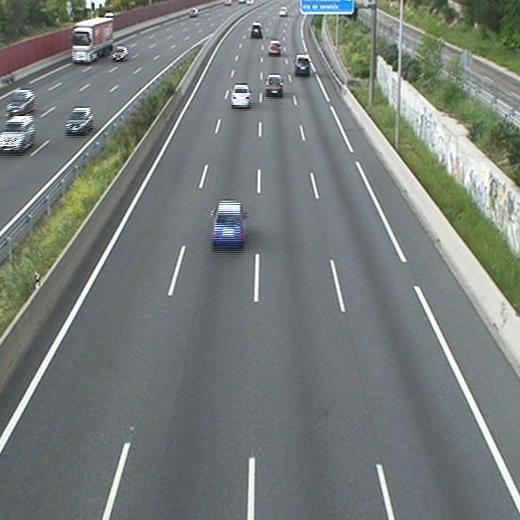car: (209, 199, 246, 250), (230, 83, 251, 108), (265, 74, 283, 98), (293, 54, 311, 77), (268, 40, 283, 56), (250, 22, 262, 38)
